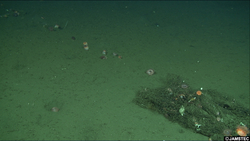fishing net: (130, 70, 250, 141)
